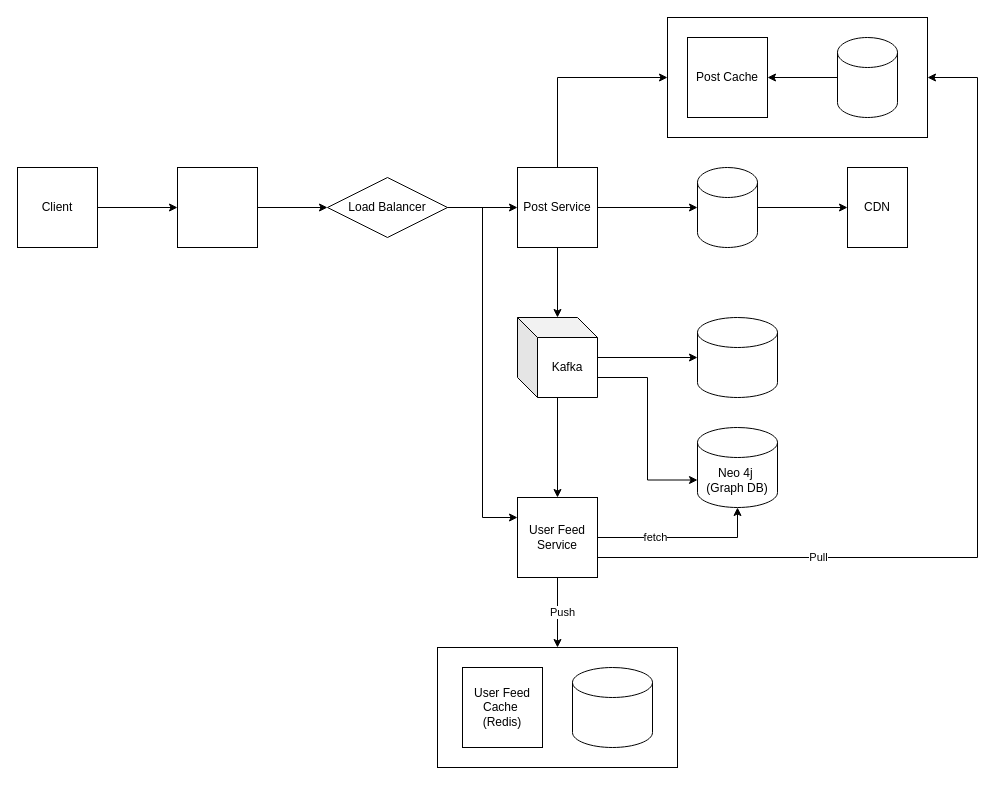
Image size: 1003x785. Some labels were removed from this diagram. Here are the shapes that lost their labels. From the top down, the box of each, then its label:
(836, 36, 898, 118): Post DB
(176, 166, 258, 248): Gateway
(696, 166, 758, 248): Object Storage (S3)
(696, 316, 778, 398): Indexes
(572, 666, 652, 748): User Feed DB
